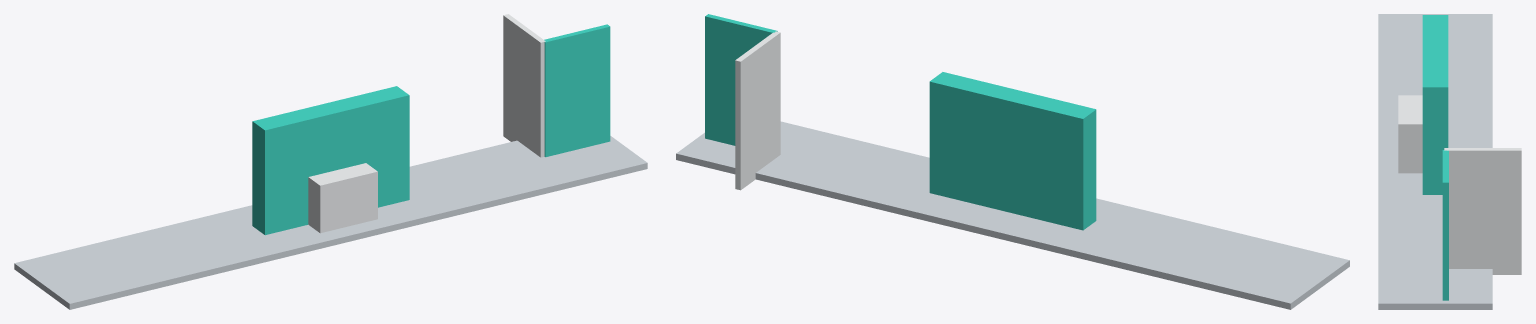
3 renders of one model, left to right at view 1: azimuth 30°, elevation 25°; view 2: azimuth 150°, elevation 25°; view 3: azimuth 270°, elevation 25°, orthographic. The views are drawn at different scales.
Visible parts, largest first — view 1: Exhibition Booth Concept; view 2: Exhibition Booth Concept; view 3: Exhibition Booth Concept.
Part boxes in pixels (x1=…): Exhibition Booth Concept: x1=14, y1=14, x2=647, y2=309; Exhibition Booth Concept: x1=676, y1=14, x2=1349, y2=309; Exhibition Booth Concept: x1=1378, y1=14, x2=1521, y2=309.
Size of the model in its own units: 12 by 2.4 by 2.5.
